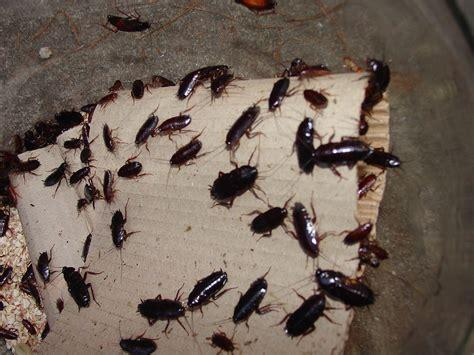cockroach: (315, 268, 380, 313), (283, 291, 329, 338), (208, 164, 260, 203), (233, 274, 268, 326), (310, 137, 370, 167), (224, 104, 261, 152), (244, 204, 290, 242), (186, 270, 229, 310), (360, 56, 390, 113), (292, 201, 320, 261), (62, 264, 94, 310), (296, 116, 318, 176), (138, 296, 185, 324), (104, 12, 152, 36), (364, 145, 403, 174), (170, 139, 202, 171), (118, 333, 158, 354), (134, 113, 158, 148), (158, 113, 192, 137), (267, 78, 290, 112), (182, 64, 230, 80), (108, 210, 127, 248), (343, 220, 372, 244), (302, 86, 328, 112), (34, 249, 52, 286), (99, 168, 116, 206), (116, 159, 146, 180), (208, 330, 234, 354), (42, 164, 68, 188), (362, 238, 390, 260), (26, 279, 43, 310), (177, 80, 203, 100), (358, 174, 378, 199), (0, 261, 14, 292), (355, 250, 379, 268), (210, 80, 234, 98), (0, 208, 12, 241), (102, 125, 116, 153), (13, 160, 41, 174), (150, 72, 174, 88), (284, 56, 302, 77), (70, 166, 90, 184), (98, 93, 120, 107), (0, 324, 17, 342), (84, 183, 100, 202), (25, 127, 37, 152), (81, 234, 92, 261), (78, 146, 94, 164), (130, 81, 146, 98), (60, 138, 82, 150), (22, 318, 35, 337), (14, 132, 24, 156), (107, 80, 123, 92), (360, 116, 370, 134), (80, 104, 98, 113), (74, 198, 87, 210)
